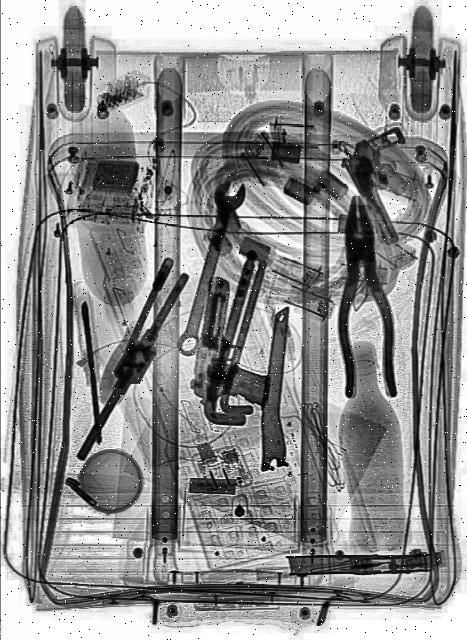Gun: (190, 273, 286, 419), (338, 116, 440, 250)
Pliers: (332, 193, 398, 399)
Wrench: (170, 174, 250, 362)
